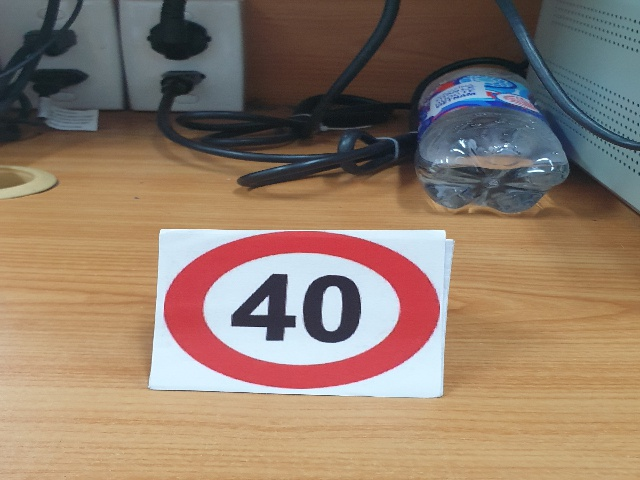Limit 40: (164, 230, 439, 393)
